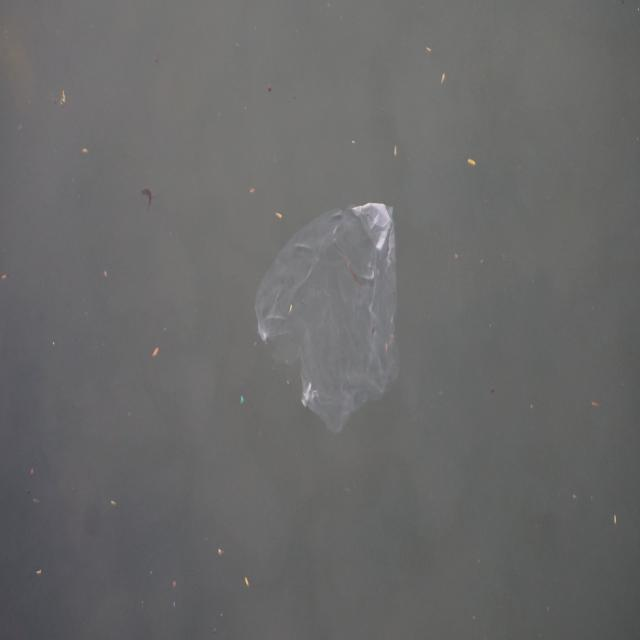Kantong Plastik: (251, 199, 404, 431)
